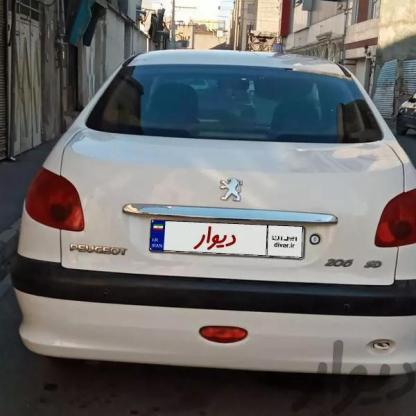Car: (0, 46, 416, 412)
